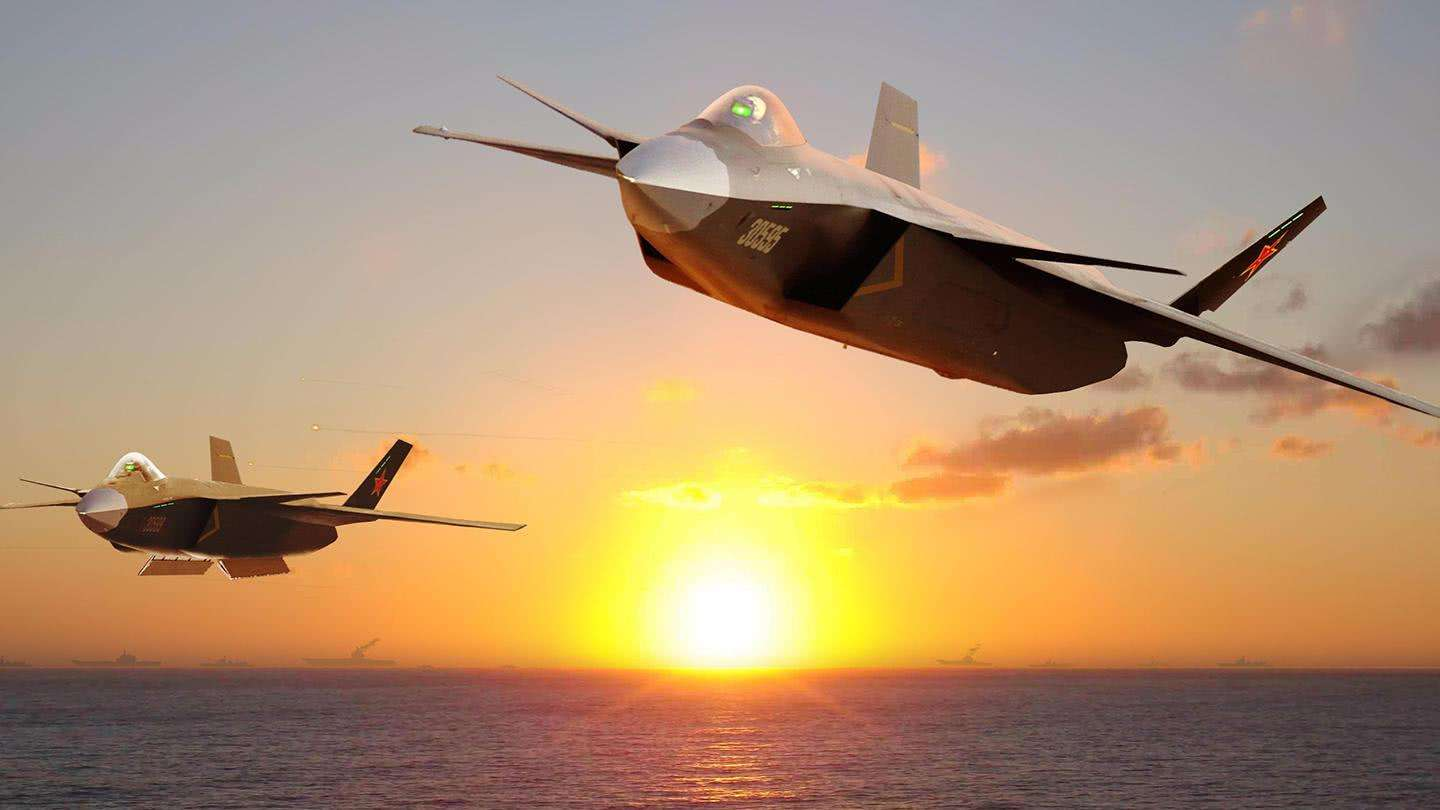airplane: (404, 55, 1440, 428), (9, 419, 526, 587)
